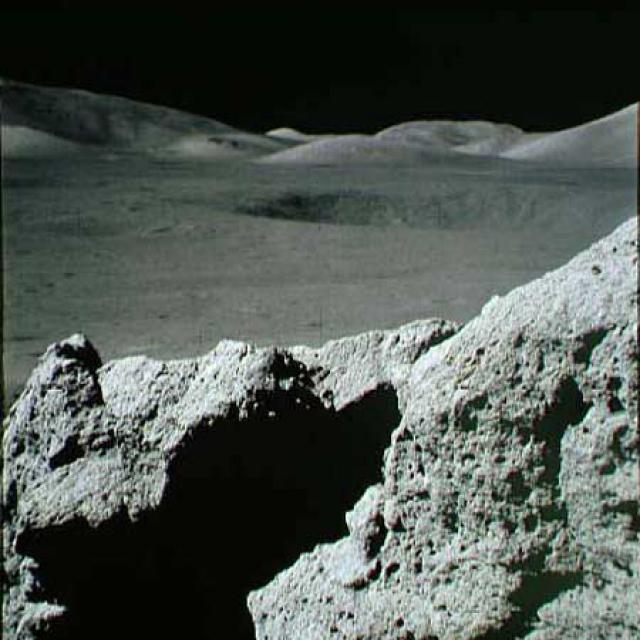crater: (238, 174, 594, 232)
rock: (0, 211, 639, 638)
